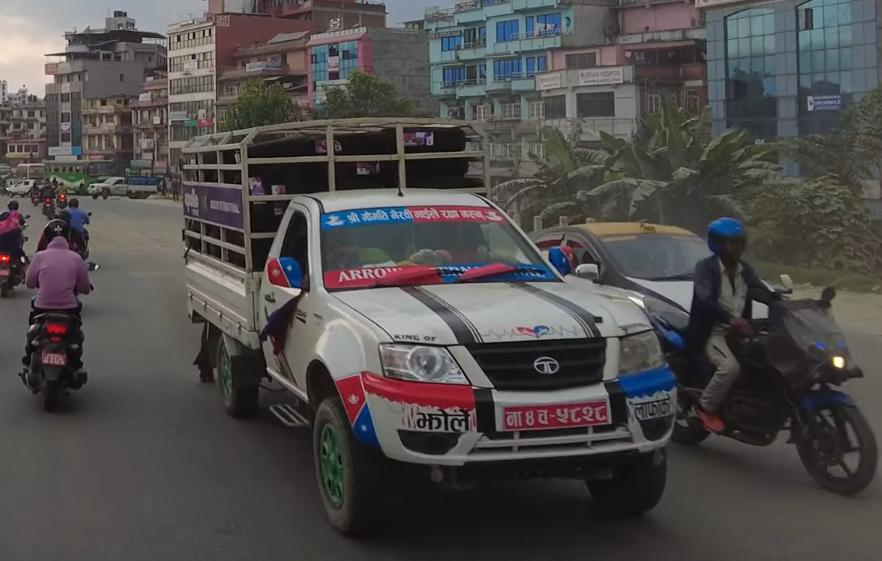bike: (643, 281, 882, 512)
bus: (46, 154, 116, 196)
scooter: (17, 294, 105, 419), (0, 194, 27, 305)
taxi: (529, 200, 735, 342)
transport_vehicle: (171, 107, 683, 540), (90, 166, 162, 206)
